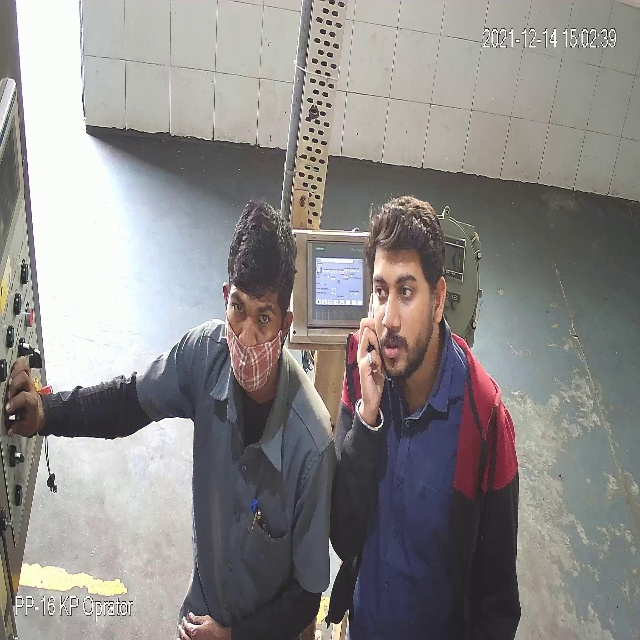Sin_gafas: (229, 296, 283, 334), (374, 272, 421, 307)
Sin_mascara: (374, 307, 430, 386)
